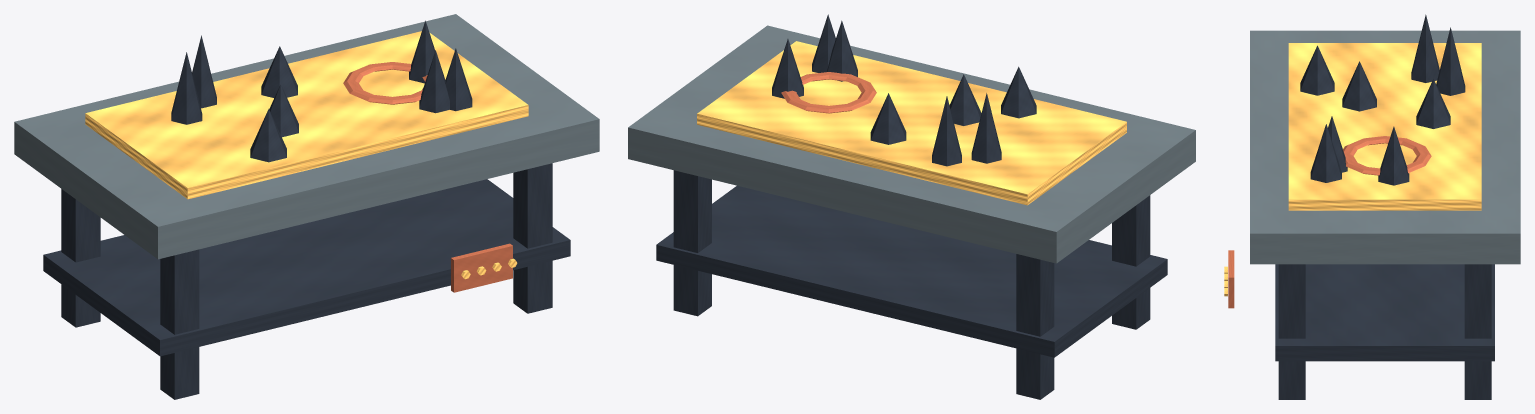
File: atlas100-s024-a02.glb
3 views of the same model, side by side, from view 1: azimuth 30°, elevation 25°; view 2: azimuth 150°, elevation 25°; view 3: azimuth 270°, elevation 25° (orthographic). The views are drawn at different scales.
Parts seen in each view (by area): view 1: atlas100-s024-a02:part-004, atlas100-s024-a02:part-005, atlas100-s024-a02:part-006, atlas100-s024-a02:part-001, atlas100-s024-a02:part-003, atlas100-s024-a02:part-000, atlas100-s024-a02:part-016, atlas100-s024-a02:part-015, atlas100-s024-a02:part-012, atlas100-s024-a02:part-007, atlas100-s024-a02:part-014, atlas100-s024-a02:part-013 (+4 smaller); view 2: atlas100-s024-a02:part-004, atlas100-s024-a02:part-005, atlas100-s024-a02:part-006, atlas100-s024-a02:part-002, atlas100-s024-a02:part-000, atlas100-s024-a02:part-001, atlas100-s024-a02:part-015, atlas100-s024-a02:part-012, atlas100-s024-a02:part-009, atlas100-s024-a02:part-013, atlas100-s024-a02:part-007, atlas100-s024-a02:part-008 (+3 smaller); view 3: atlas100-s024-a02:part-004, atlas100-s024-a02:part-006, atlas100-s024-a02:part-005, atlas100-s024-a02:part-002, atlas100-s024-a02:part-003, atlas100-s024-a02:part-015, atlas100-s024-a02:part-009, atlas100-s024-a02:part-012, atlas100-s024-a02:part-011, atlas100-s024-a02:part-008, atlas100-s024-a02:part-010, atlas100-s024-a02:part-013 (+3 smaller).
Boxes of the visible parts, box(x1,y1,x2,y2) form: atlas100-s024-a02:part-004: box(14, 14, 599, 259); atlas100-s024-a02:part-005: box(43, 179, 570, 356); atlas100-s024-a02:part-006: box(85, 31, 528, 199); atlas100-s024-a02:part-001: box(160, 249, 199, 399); atlas100-s024-a02:part-003: box(513, 163, 552, 313); atlas100-s024-a02:part-000: box(61, 189, 100, 327); atlas100-s024-a02:part-016: box(451, 243, 512, 292); atlas100-s024-a02:part-015: box(343, 62, 427, 104); atlas100-s024-a02:part-012: box(171, 52, 202, 124); atlas100-s024-a02:part-007: box(250, 109, 286, 162); atlas100-s024-a02:part-014: box(419, 50, 449, 113); atlas100-s024-a02:part-013: box(261, 46, 297, 97); atlas100-s024-a02:part-004: box(628, 25, 1195, 263); atlas100-s024-a02:part-005: box(656, 185, 1167, 357); atlas100-s024-a02:part-006: box(697, 41, 1126, 205); atlas100-s024-a02:part-002: box(673, 170, 711, 316); atlas100-s024-a02:part-000: box(1016, 254, 1054, 399); atlas100-s024-a02:part-001: box(1112, 195, 1150, 329); atlas100-s024-a02:part-015: box(781, 72, 876, 113); atlas100-s024-a02:part-012: box(971, 93, 1001, 163); atlas100-s024-a02:part-009: box(932, 96, 961, 166); atlas100-s024-a02:part-013: box(870, 93, 906, 144); atlas100-s024-a02:part-007: box(1001, 66, 1036, 118); atlas100-s024-a02:part-008: box(772, 39, 803, 98); atlas100-s024-a02:part-004: box(1250, 30, 1520, 264); atlas100-s024-a02:part-006: box(1288, 43, 1481, 210); atlas100-s024-a02:part-005: box(1275, 264, 1494, 361); atlas100-s024-a02:part-002: box(1464, 264, 1491, 399); atlas100-s024-a02:part-003: box(1278, 264, 1305, 399); atlas100-s024-a02:part-015: box(1343, 136, 1431, 175); atlas100-s024-a02:part-009: box(1436, 27, 1465, 95); atlas100-s024-a02:part-012: box(1411, 14, 1439, 82); atlas100-s024-a02:part-011: box(1310, 124, 1341, 182); atlas100-s024-a02:part-008: box(1378, 126, 1409, 185); atlas100-s024-a02:part-010: box(1342, 61, 1376, 111); atlas100-s024-a02:part-013: box(1416, 79, 1450, 128).
Size of the model in its own units: 2.84 by 1.65 by 1.75.
4 materials, 4 textured.
